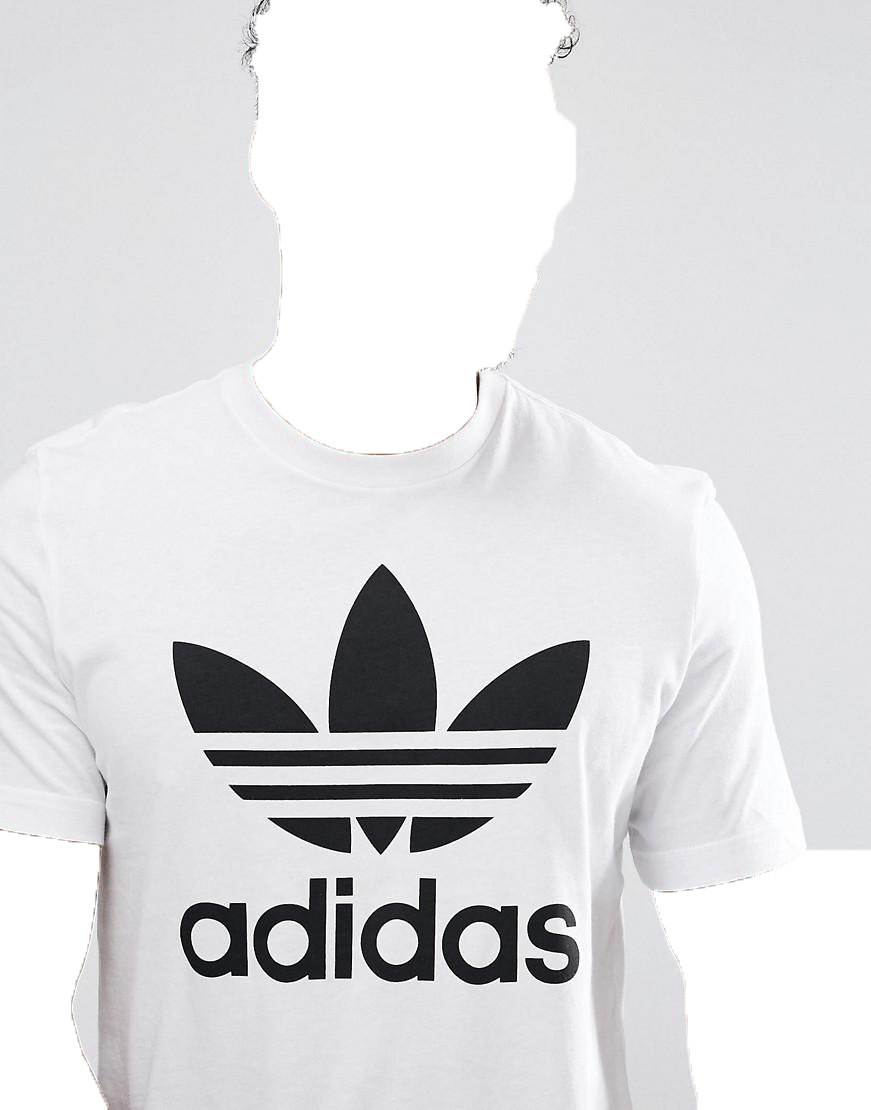teeshirt: (3, 361, 821, 1110)
